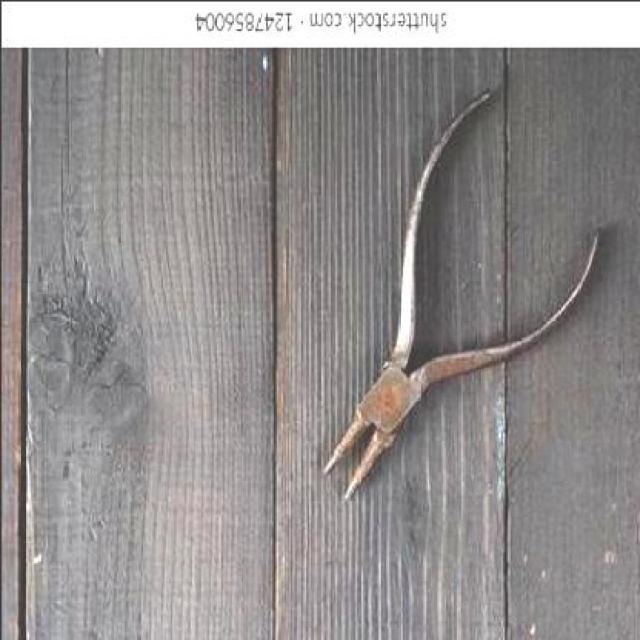pliers: (320, 88, 606, 514)
